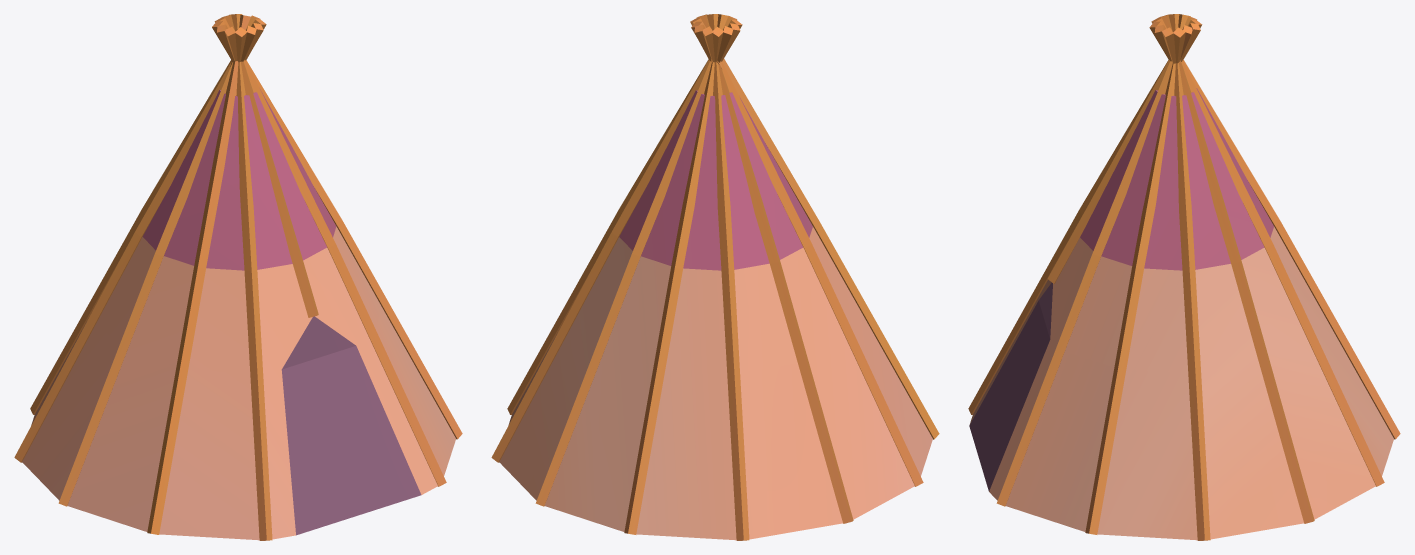
The model's file is palat3.fbx.
3 renders of one model, left to right at view 1: azimuth 30°, elevation 25°; view 2: azimuth 150°, elevation 25°; view 3: azimuth 270°, elevation 25°, orthographic.
Visible parts, largest first — view 1: Cone.014; view 2: Cone.014; view 3: Cone.014.
Part boxes in pixels (x1=…): Cone.014: x1=14, y1=14, x2=462, y2=540; Cone.014: x1=491, y1=14, x2=939, y2=540; Cone.014: x1=968, y1=14, x2=1400, y2=540.
Size of the model in its own units: 622 by 659 by 600.
